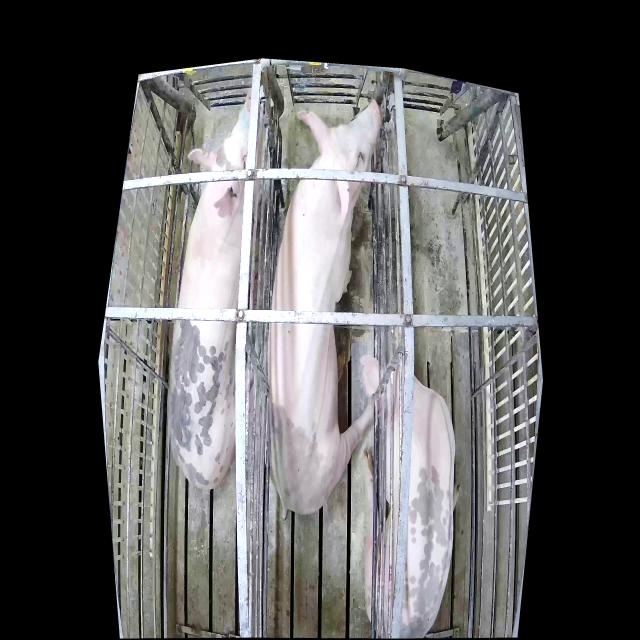pig: (267, 101, 384, 516), (165, 87, 258, 493), (360, 326, 461, 635)
